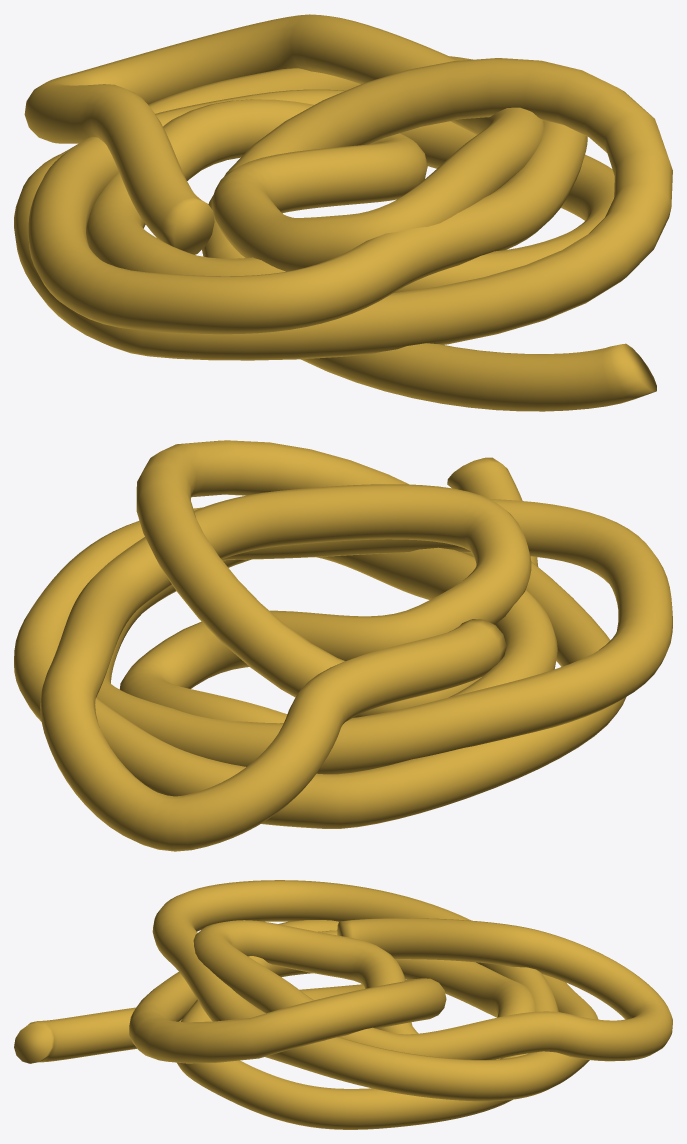
File: rope01.fbx
3 views of the same model, one above another, from view 1: azimuth 30°, elevation 25°; view 2: azimuth 150°, elevation 25°; view 3: azimuth 270°, elevation 25° (orthographic). The views are drawn at different scales.
Visible parts, largest first — view 1: RopeMesh; view 2: RopeMesh; view 3: RopeMesh.
Part boxes in pixels (box(x1,y1,x2,y2)): RopeMesh: box(14, 14, 672, 411); RopeMesh: box(14, 440, 672, 851); RopeMesh: box(14, 880, 672, 1129).
Bounding box in the file's own units: 40.36 × 12.71 × 57.42.
